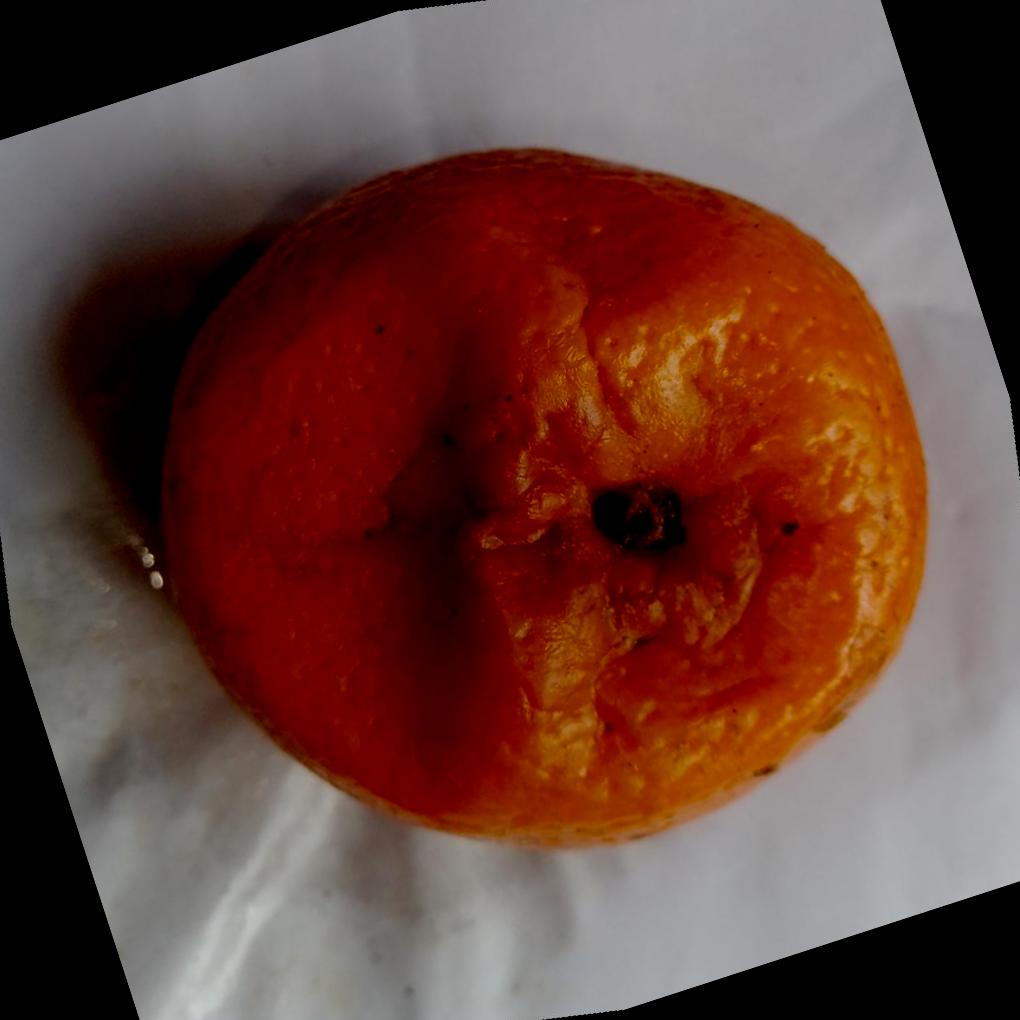FreshOrange: (157, 146, 932, 858)
